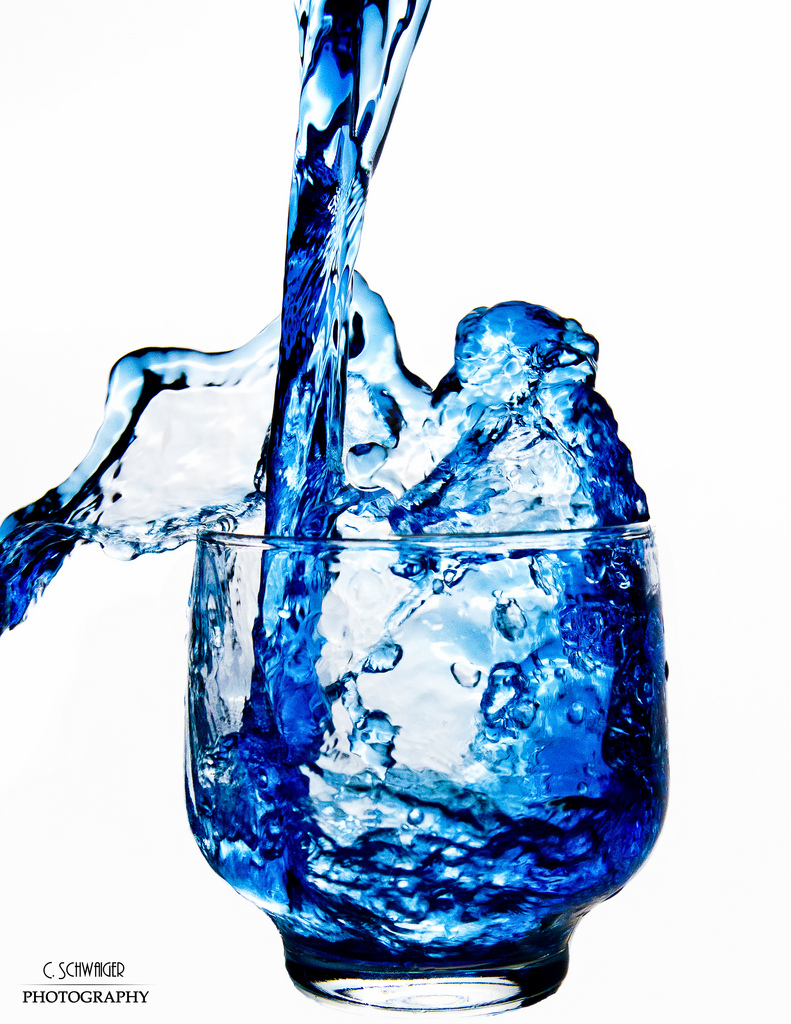glass of water: (169, 485, 670, 1006)
